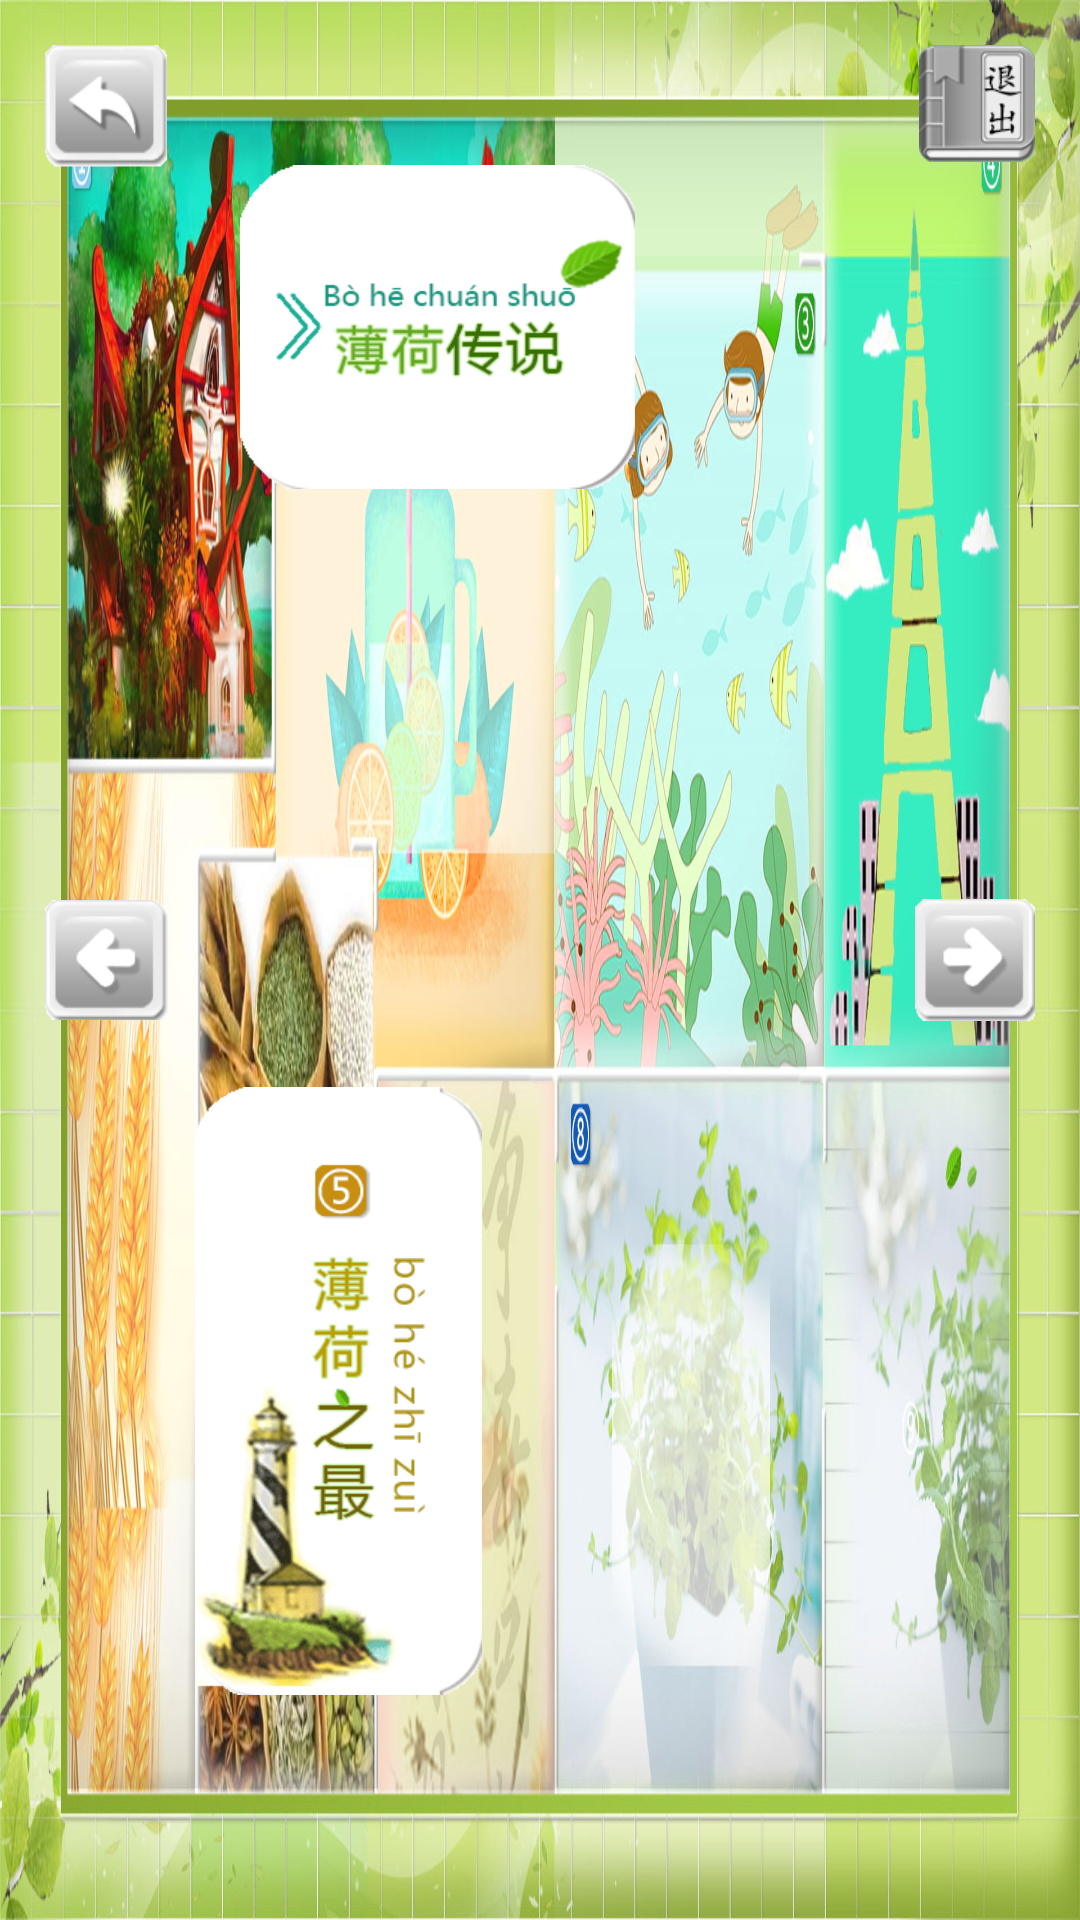

Icons on this 1080px x 1920px Android screen, each with the point to tap as point (x, y):
home back: point (106, 960)
home front: point (975, 960)
